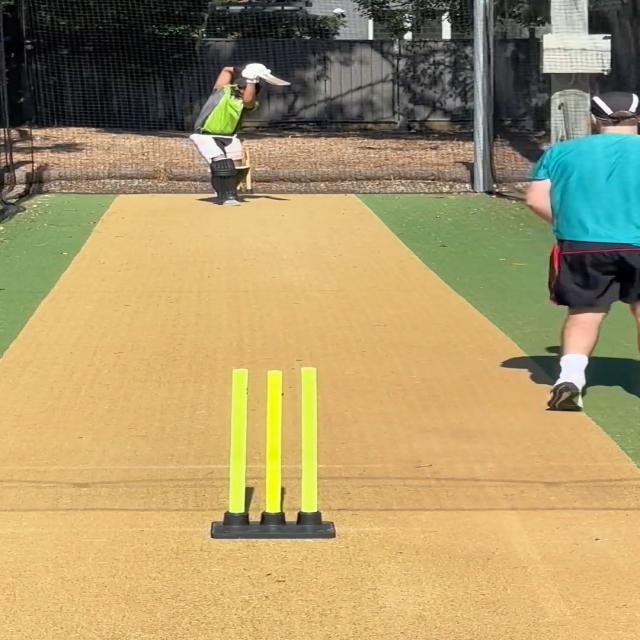stump: (215, 366, 334, 538)
